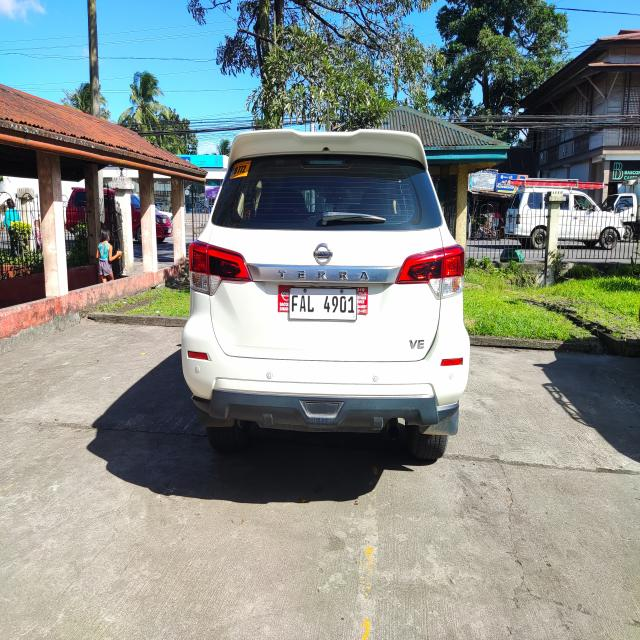plate: (287, 285, 359, 323)
